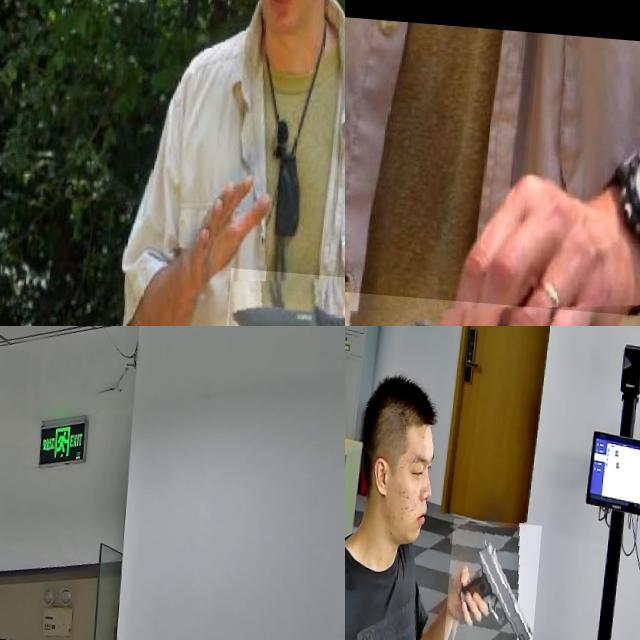-: (233, 262, 345, 326)
gun-knife-thesis - v11 Yolov5 augmented: (451, 511, 547, 640), (0, 326, 31, 474)
